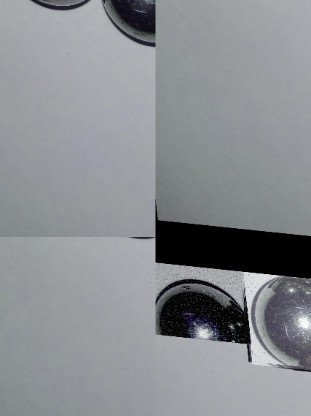ironball: (155, 258, 248, 339), (239, 266, 311, 366), (101, 0, 151, 46)
